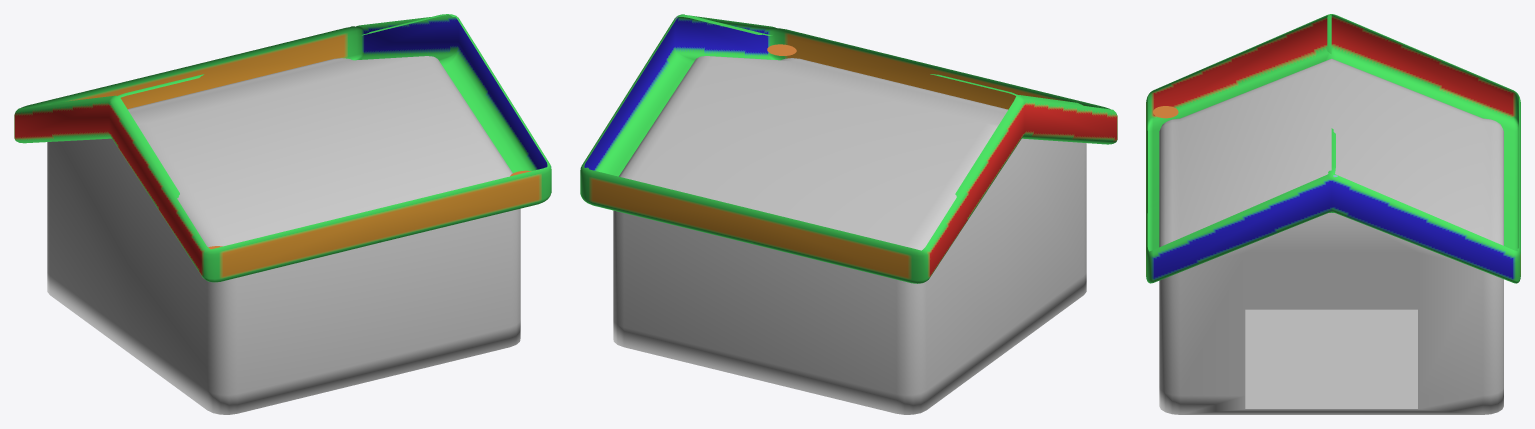
Rendered from depot2parts.fbx.
3 renders of one model, left to right at view 1: azimuth 30°, elevation 25°; view 2: azimuth 150°, elevation 25°; view 3: azimuth 270°, elevation 25°, orthographic. The views are drawn at different scales.
Parts seen in each view (by area): view 1: Cube.006, Cube.003; view 2: Cube.006, Cube.003; view 3: Cube.006, Cube.003.
Part boxes in pixels (<box>): Cube.006: <box>47,56,520,414</box>; Cube.003: <box>14,14,551,282</box>; Cube.006: <box>613,56,1086,414</box>; Cube.003: <box>580,14,1117,283</box>; Cube.006: <box>1159,58,1503,414</box>; Cube.003: <box>1146,14,1520,283</box>.
Size of the model in its own units: 450 by 321 by 435.
